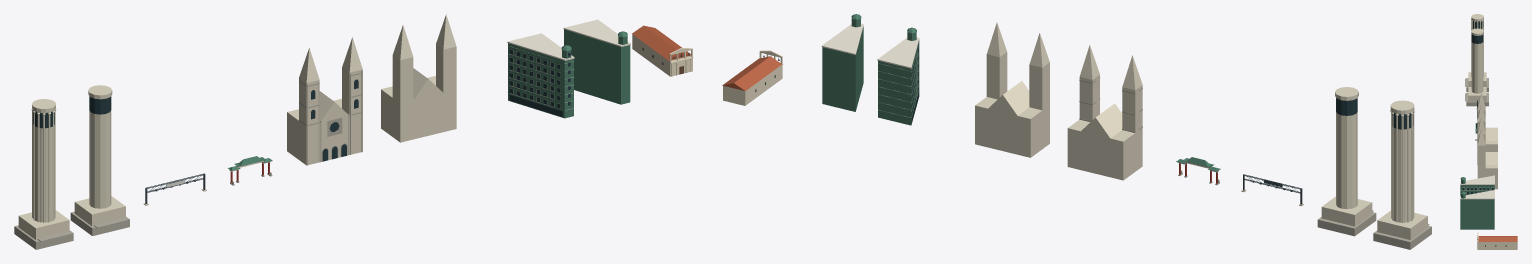
The model's file is sf-landmarks.glb.
The picture shows the model from 3 angles, left to right: view 1: azimuth 30°, elevation 25°; view 2: azimuth 150°, elevation 25°; view 3: azimuth 270°, elevation 25°; orthographic projection. The views are drawn at different scales.
Parts seen in each view (by area): view 1: sf_twin_spire_lod1_body, sf_twin_spire_lod0_body, sf_flatiron_lod0_body, coit_tower_body, sf_flatiron_lod1_body, coit_tower_lod1_body, sf_mission_church_body, sf_dragon_gate_body, toll_gantry_body; view 2: sf_twin_spire_lod0_body, sf_twin_spire_lod1_body, coit_tower_body, coit_tower_lod1_body, sf_flatiron_lod1_body, sf_flatiron_lod0_body, sf_mission_church_body, sf_dragon_gate_body, toll_gantry_body; view 3: sf_flatiron_lod1_body, coit_tower_lod1_body, sf_twin_spire_lod1_body, sf_twin_spire_lod0_body, sf_mission_church_body, sf_flatiron_lod0_body, coit_tower_body.
Part boxes in pixels (x1=…): sf_twin_spire_lod1_body: x1=381, y1=14, x2=456, y2=142; sf_twin_spire_lod0_body: x1=287, y1=37, x2=362, y2=165; sf_flatiron_lod0_body: x1=507, y1=33, x2=574, y2=118; coit_tower_body: x1=14, y1=99, x2=73, y2=249; sf_flatiron_lod1_body: x1=563, y1=19, x2=630, y2=104; coit_tower_lod1_body: x1=70, y1=85, x2=129, y2=235; sf_mission_church_body: x1=632, y1=25, x2=693, y2=76; sf_dragon_gate_body: x1=228, y1=156, x2=272, y2=185; toll_gantry_body: x1=143, y1=173, x2=206, y2=205; sf_twin_spire_lod0_body: x1=1067, y1=45, x2=1142, y2=180; sf_twin_spire_lod1_body: x1=975, y1=22, x2=1049, y2=157; coit_tower_body: x1=1373, y1=100, x2=1431, y2=249; coit_tower_lod1_body: x1=1317, y1=87, x2=1376, y2=236; sf_flatiron_lod1_body: x1=821, y1=14, x2=863, y2=111; sf_flatiron_lod0_body: x1=877, y1=27, x2=919, y2=125; sf_mission_church_body: x1=722, y1=50, x2=783, y2=105; sf_dragon_gate_body: x1=1176, y1=157, x2=1220, y2=185; toll_gantry_body: x1=1241, y1=174, x2=1303, y2=206; sf_flatiron_lod1_body: x1=1460, y1=190, x2=1494, y2=229; coit_tower_lod1_body: x1=1465, y1=28, x2=1488, y2=106; sf_twin_spire_lod1_body: x1=1477, y1=117, x2=1497, y2=189; sf_twin_spire_lod0_body: x1=1477, y1=93, x2=1497, y2=164; sf_mission_church_body: x1=1477, y1=232, x2=1517, y2=249; sf_flatiron_lod0_body: x1=1460, y1=175, x2=1494, y2=196; coit_tower_body: x1=1465, y1=14, x2=1488, y2=91.
Size of the model in its own units: 356 by 68 by 50.43.
